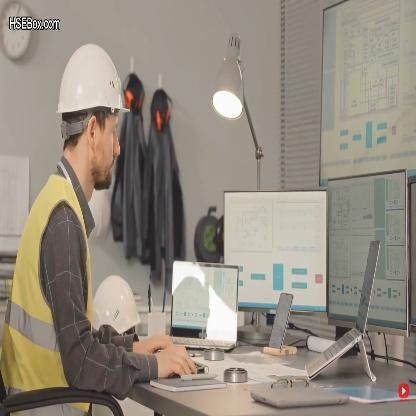helmet: (45, 40, 127, 201)
